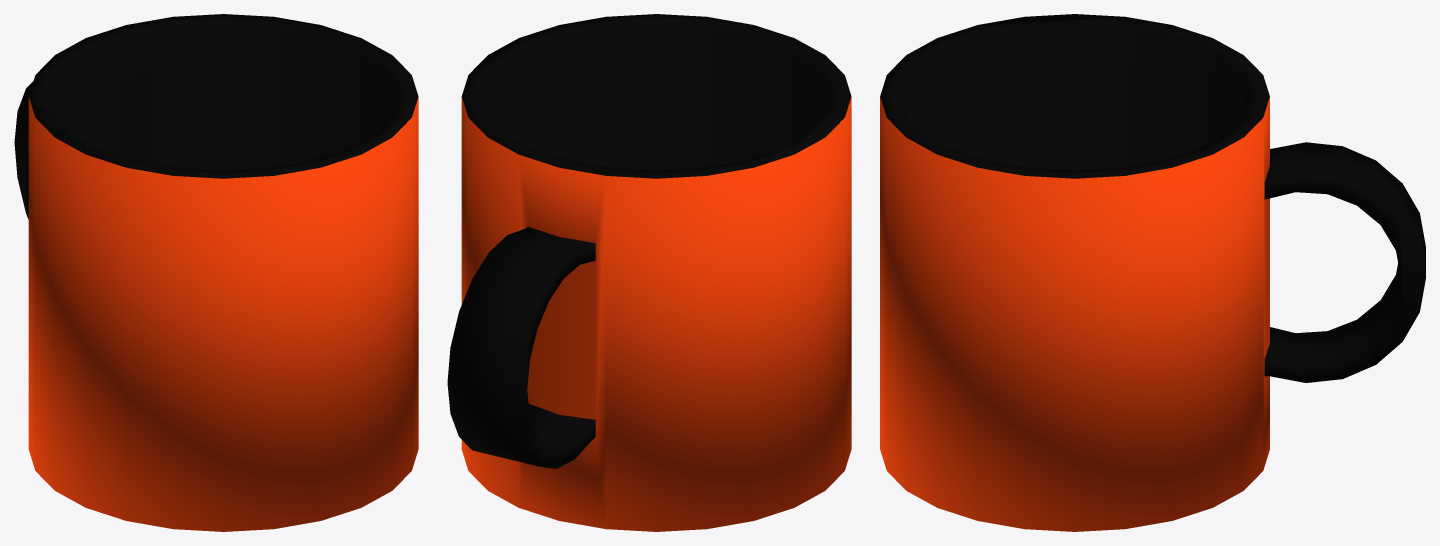
The model's file is mug_03_origin_gt_7.dae.
3 renders of one model, left to right at view 1: azimuth 30°, elevation 25°; view 2: azimuth 150°, elevation 25°; view 3: azimuth 270°, elevation 25°, orthographic.
Visible parts, largest first — view 1: group_0 (×4); view 2: group_0 (×4); view 3: group_0 (×4).
Part boxes in pixels (box(x1,y1,x2,y2)): group_0 (×4): box(14, 14, 418, 531); group_0 (×4): box(447, 14, 851, 531); group_0 (×4): box(880, 14, 1425, 531).
Bounding box in the file's own units: 2.64 × 3.7 × 2.64.
